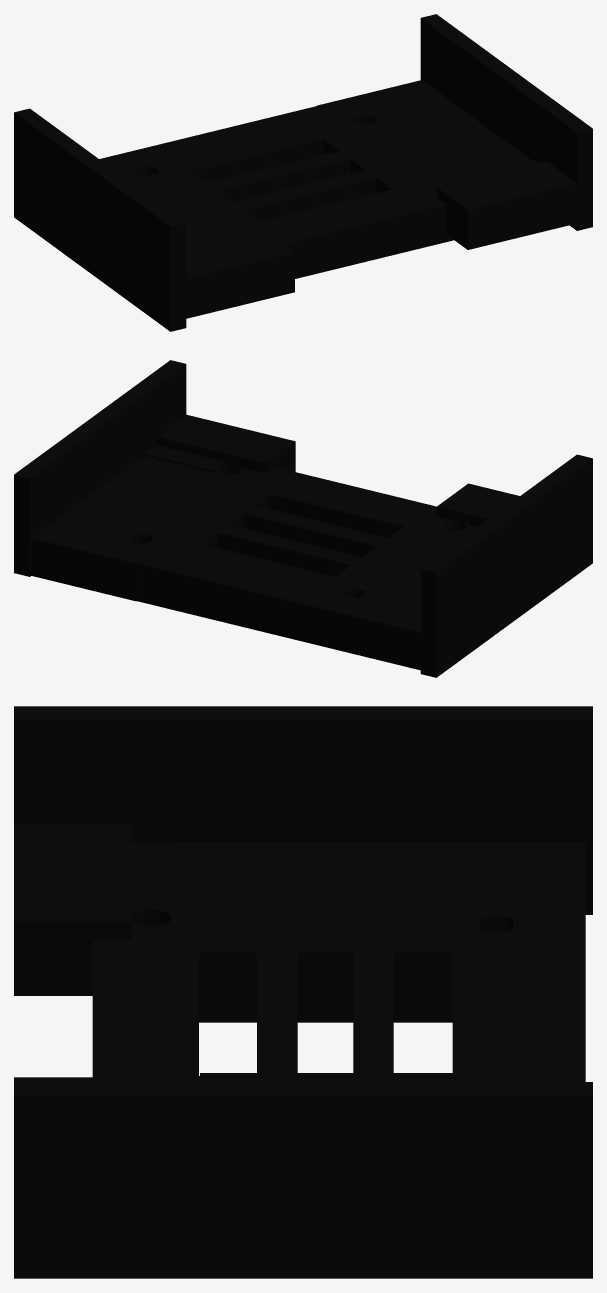
File: hddtutucu.fbx
3 renders of one model, top to bottom at view 1: azimuth 30°, elevation 25°; view 2: azimuth 150°, elevation 25°; view 3: azimuth 270°, elevation 25°, orthographic. The views are drawn at different scales.
Visible parts, largest first — view 1: root (×15); view 2: root (×16); view 3: root (×14).
Part boxes in pixels (bbox=[...]): root (×15): bbox=[14, 14, 592, 331]; root (×16): bbox=[14, 360, 592, 677]; root (×14): bbox=[14, 706, 592, 1278].
Size of the model in its own units: 0.3112 by 0.0739 by 0.1997.
10 materials, 10 textured.
